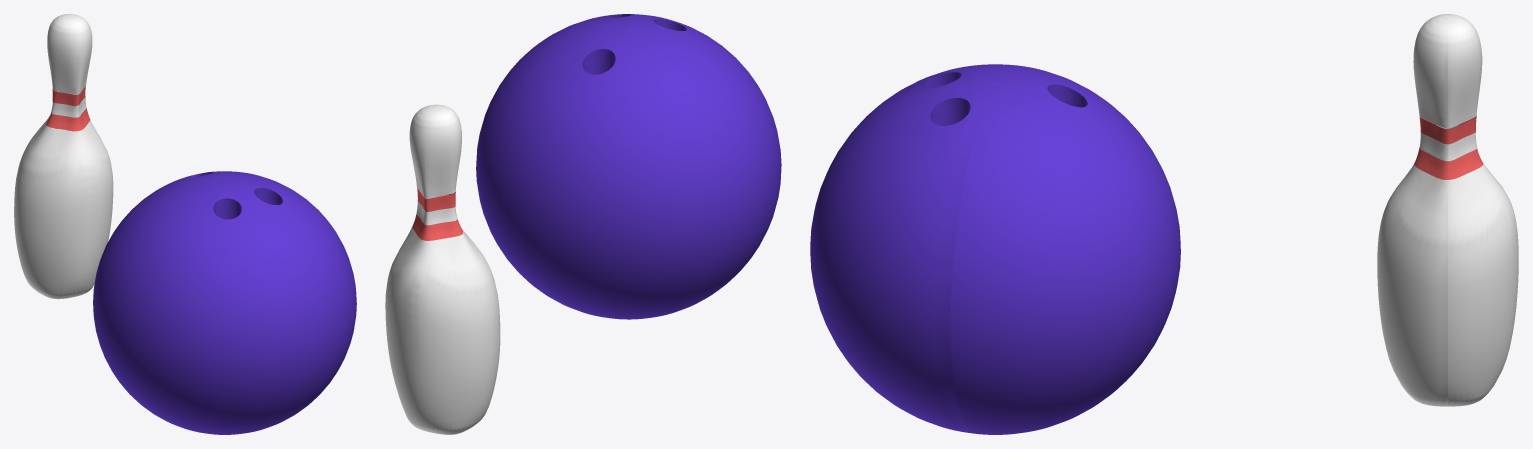
The model's file is BowlingToUnity.fbx.
The picture shows the model from 3 angles, left to right: view 1: azimuth 30°, elevation 25°; view 2: azimuth 150°, elevation 25°; view 3: azimuth 270°, elevation 25°; orthographic projection. The views are drawn at different scales.
Parts seen in each view (by area): view 1: Object_22, Object_26, Object_6, Object_7; view 2: Object_22, Object_26, Object_6, Object_7; view 3: Object_22, Object_26, Object_6, Object_7.
Boxes of the visible parts, x1,y1,x2,y2 form: Object_22: (93, 171, 356, 434); Object_26: (14, 14, 113, 299); Object_6: (46, 108, 90, 131); Object_7: (52, 86, 85, 106); Object_22: (476, 14, 781, 319); Object_26: (385, 104, 500, 434); Object_6: (412, 214, 462, 240); Object_7: (417, 187, 455, 211); Object_22: (810, 64, 1180, 434); Object_26: (1377, 14, 1518, 406); Object_6: (1414, 147, 1482, 179); Object_7: (1419, 116, 1476, 144).
Bounding box in the file's own units: 4120 × 4940 × 7875.
